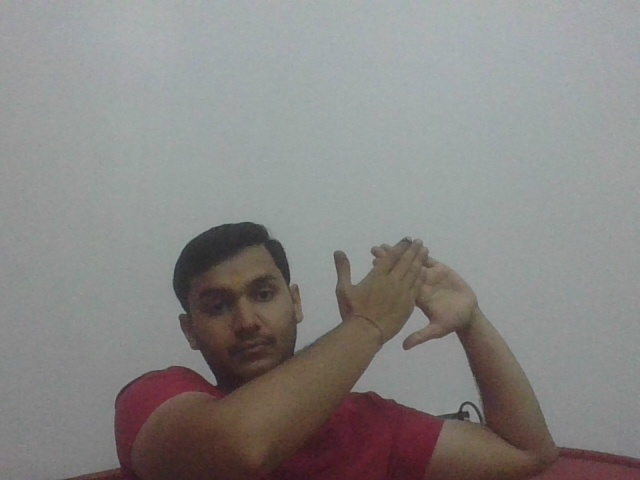H: (329, 235, 482, 352)
